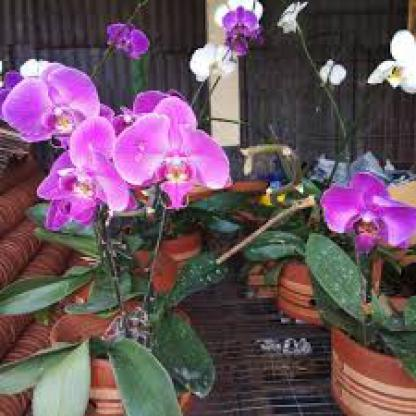ANGGREK: (5, 18, 412, 339)
